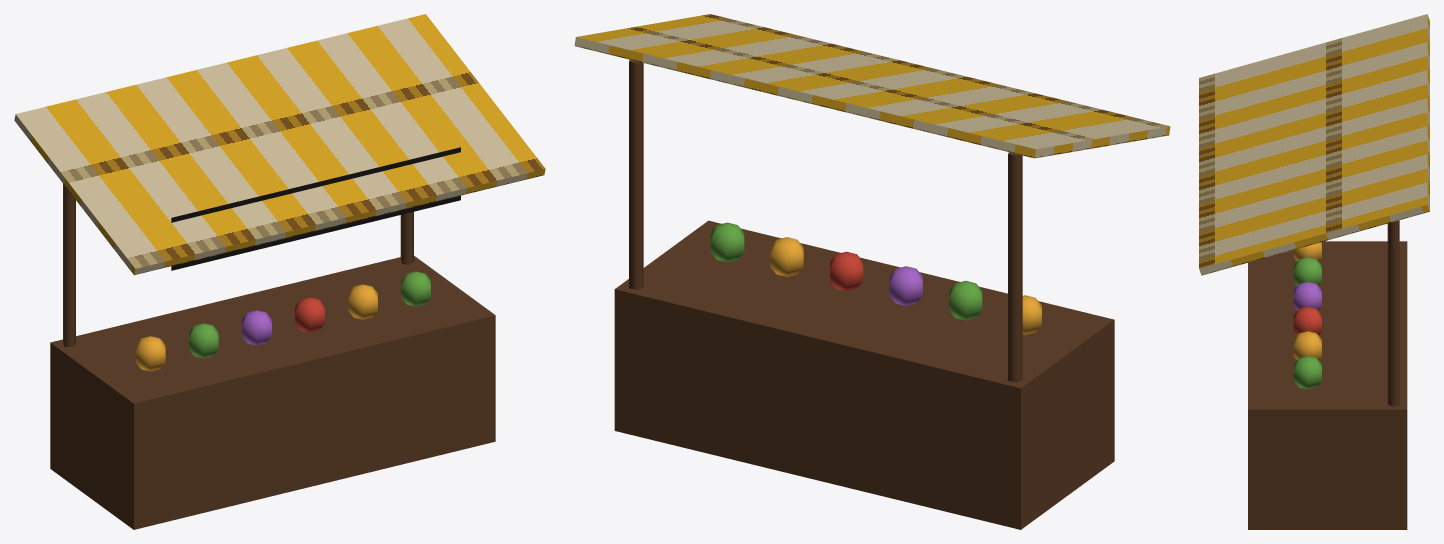
File: Stand_3.glb
3 renders of one model, left to right at view 1: azimuth 30°, elevation 25°; view 2: azimuth 150°, elevation 25°; view 3: azimuth 270°, elevation 25°, orthographic. The views are drawn at different scales.
Parts seen in each view (by area): view 1: Stand_3; view 2: Stand_3; view 3: Stand_3.
Part boxes in pixels (x1,y1,x2,y2): Stand_3: [14, 14, 545, 529]; Stand_3: [574, 14, 1170, 529]; Stand_3: [1199, 14, 1429, 529].
Bounding box in the file's own units: 3.4 × 2.79 × 1.74.
Materials: 9 (2 with a texture image).
